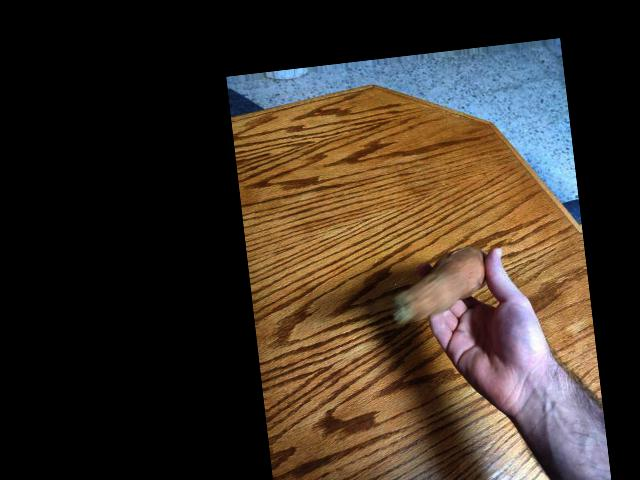sweet_potato: (385, 245, 499, 330)
